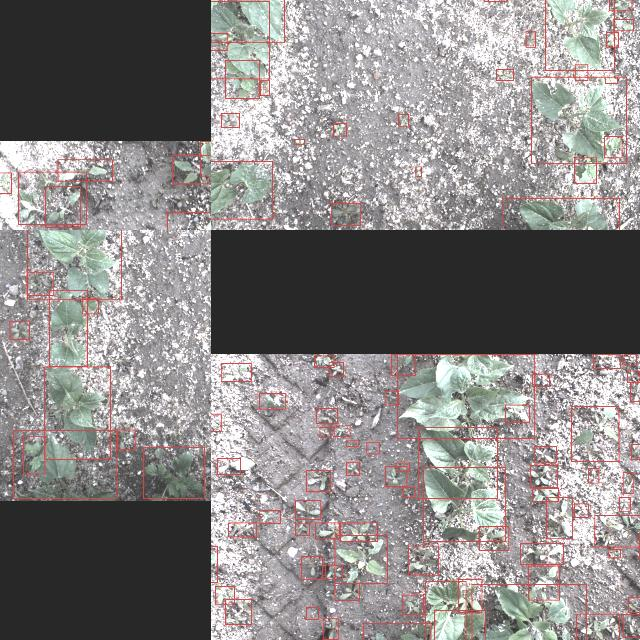crop: (397, 354, 535, 438), (532, 76, 626, 164), (13, 429, 116, 498), (28, 230, 122, 299), (44, 366, 110, 459), (424, 466, 504, 542), (418, 427, 498, 498), (545, 0, 614, 69), (211, 0, 269, 78), (503, 197, 619, 230), (211, 161, 272, 219), (211, 0, 284, 41), (49, 290, 87, 366), (425, 581, 466, 640), (434, 610, 485, 640), (200, 140, 211, 175)
weed: (472, 583, 586, 640), (19, 170, 87, 223), (144, 447, 204, 498), (334, 534, 388, 584), (572, 406, 618, 460), (594, 515, 640, 546), (46, 186, 80, 227), (225, 60, 259, 98), (58, 158, 112, 180), (576, 613, 619, 640), (363, 623, 431, 640), (172, 154, 211, 183), (528, 565, 560, 599), (547, 498, 573, 538), (520, 542, 564, 564), (409, 546, 439, 574), (23, 436, 45, 474), (458, 578, 482, 612), (340, 522, 378, 542), (479, 526, 508, 550), (530, 464, 558, 488), (331, 203, 361, 225), (225, 600, 251, 624), (27, 272, 53, 294), (221, 362, 251, 380), (575, 158, 597, 182), (306, 470, 330, 490), (391, 354, 415, 374), (296, 499, 320, 518), (385, 466, 407, 486), (302, 556, 322, 578), (505, 404, 529, 422), (402, 594, 423, 614), (334, 584, 360, 600), (260, 392, 286, 408), (622, 613, 640, 636), (9, 320, 29, 340), (604, 136, 622, 158), (228, 522, 256, 536), (315, 522, 339, 538), (533, 487, 559, 501), (594, 353, 620, 367), (218, 458, 240, 474), (534, 445, 556, 461), (216, 586, 234, 604), (118, 429, 134, 449), (322, 618, 338, 638), (316, 408, 338, 422), (211, 32, 228, 49), (82, 298, 98, 314), (221, 113, 239, 127), (532, 372, 550, 386), (614, 18, 634, 30), (260, 510, 280, 522), (314, 355, 334, 367), (0, 171, 11, 192), (574, 64, 588, 80), (326, 564, 342, 578), (328, 361, 344, 375), (496, 68, 514, 80), (609, 0, 632, 9), (623, 472, 633, 492), (333, 122, 347, 136), (574, 503, 588, 517), (294, 523, 310, 535), (334, 424, 350, 436), (630, 381, 640, 400), (346, 461, 359, 475), (628, 596, 640, 611), (211, 413, 221, 430), (606, 32, 618, 46), (386, 390, 398, 404), (588, 468, 600, 482), (366, 441, 379, 453), (306, 607, 318, 619), (260, 80, 270, 94), (526, 32, 536, 46), (620, 497, 630, 511), (631, 443, 640, 458), (398, 113, 408, 125), (403, 486, 415, 496), (624, 354, 636, 364), (396, 462, 410, 470), (628, 371, 638, 382), (320, 427, 330, 437), (609, 549, 621, 557), (605, 76, 617, 82), (347, 440, 358, 446), (294, 138, 304, 144), (416, 166, 420, 176)
